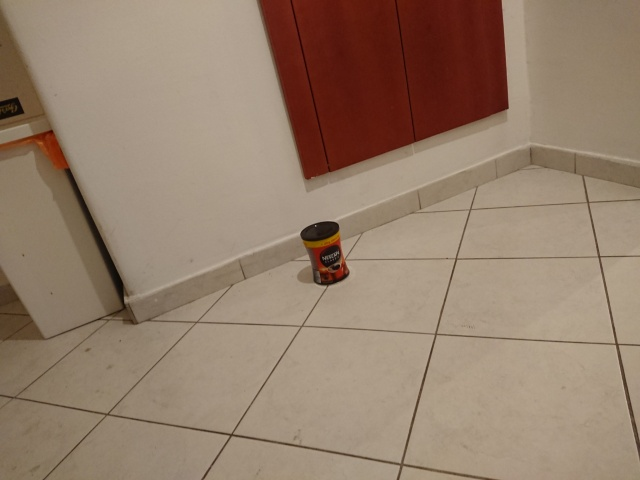Nescafe Classic 225g: (298, 219, 354, 288)
